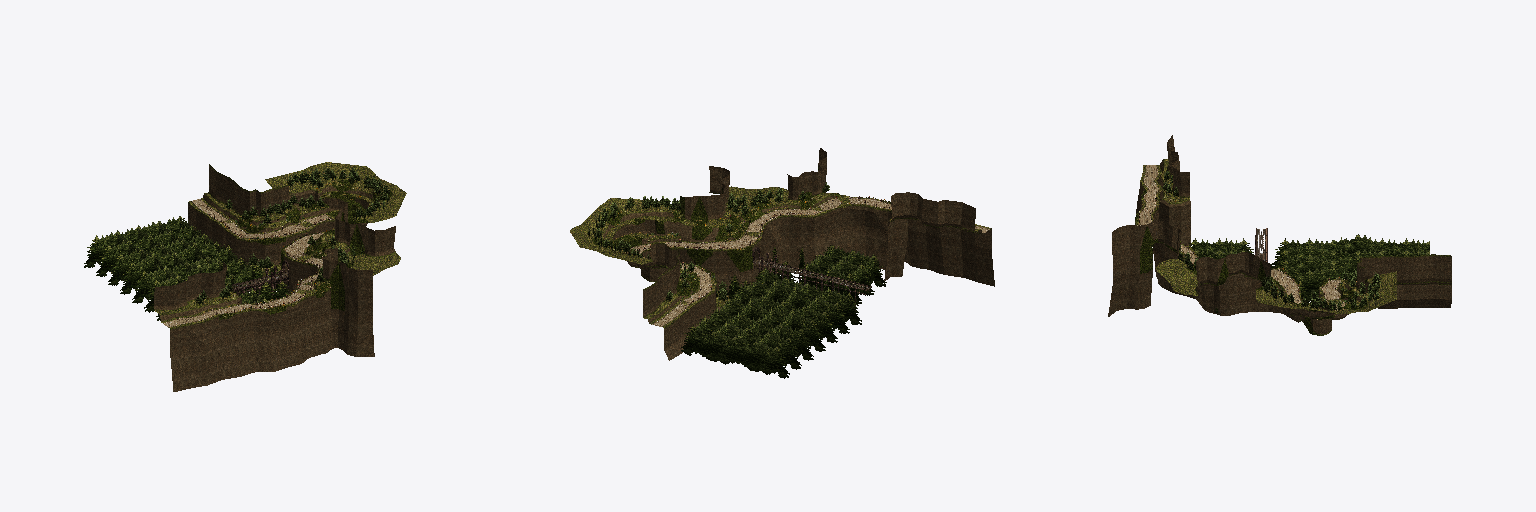
The picture shows the model from 3 angles: view 1: azimuth 30°, elevation 25°; view 2: azimuth 150°, elevation 25°; view 3: azimuth 270°, elevation 25°; orthographic projection.
Parts seen in each view (by area): view 1: Object.85, Object.81, Object.83, Object.82, Object.111, Object.84, Object.74, Object.42, Object.43, Object.54, Object.107, Object.345 (+6 smaller); view 2: Object.41, Object.83, Object.43, Object.42, Object.40, Object.81, Object.103, Object.341, Object.107, Object.102, Object.82, Object.105 (+10 smaller); view 3: Object.85, Object.95, Object.74, Object.338, Object.42, Object.88, Object.72, Object.100, Object.340, Object.56, Object.59, Object.102.
Part boxes in pixels (left/top/right/bottom): Object.85: left=327, top=309, right=374, bottom=356; Object.81: left=170, top=345, right=207, bottom=391; Object.83: left=206, top=335, right=240, bottom=384; Object.82: left=238, top=331, right=274, bottom=376; Object.111: left=270, top=320, right=304, bottom=371; Object.84: left=302, top=313, right=330, bottom=362; Object.74: left=327, top=269, right=372, bottom=317; Object.42: left=119, top=230, right=264, bottom=303; Object.43: left=154, top=225, right=203, bottom=253; Object.54: left=186, top=271, right=220, bottom=297; Object.107: left=154, top=279, right=188, bottom=305; Object.345: left=109, top=240, right=140, bottom=280; Object.41: left=694, top=259, right=861, bottom=361; Object.83: left=926, top=233, right=962, bottom=277; Object.43: left=706, top=250, right=873, bottom=337; Object.42: left=737, top=254, right=840, bottom=345; Object.40: left=715, top=245, right=852, bottom=371; Object.81: left=961, top=240, right=994, bottom=286; Object.103: left=850, top=226, right=887, bottom=269; Object.341: left=742, top=280, right=791, bottom=311; Object.107: left=938, top=200, right=975, bottom=228; Object.102: left=768, top=228, right=800, bottom=270; Object.82: left=905, top=231, right=928, bottom=269; Object.105: left=884, top=235, right=907, bottom=280; Object.85: left=1108, top=270, right=1152, bottom=316; Object.95: left=1219, top=274, right=1257, bottom=315; Object.74: left=1112, top=226, right=1139, bottom=280; Object.338: left=1338, top=234, right=1381, bottom=260; Object.42: left=1219, top=238, right=1426, bottom=258; Object.88: left=1403, top=284, right=1432, bottom=307; Object.72: left=1147, top=220, right=1181, bottom=254; Object.100: left=1154, top=202, right=1190, bottom=227; Object.340: left=1310, top=239, right=1344, bottom=262; Object.56: left=1363, top=261, right=1403, bottom=279; Object.59: left=1404, top=260, right=1432, bottom=279; Object.102: left=1199, top=284, right=1220, bottom=315.
Size of the model in its own units: 296 by 84 by 285.
18 materials, 18 textured.